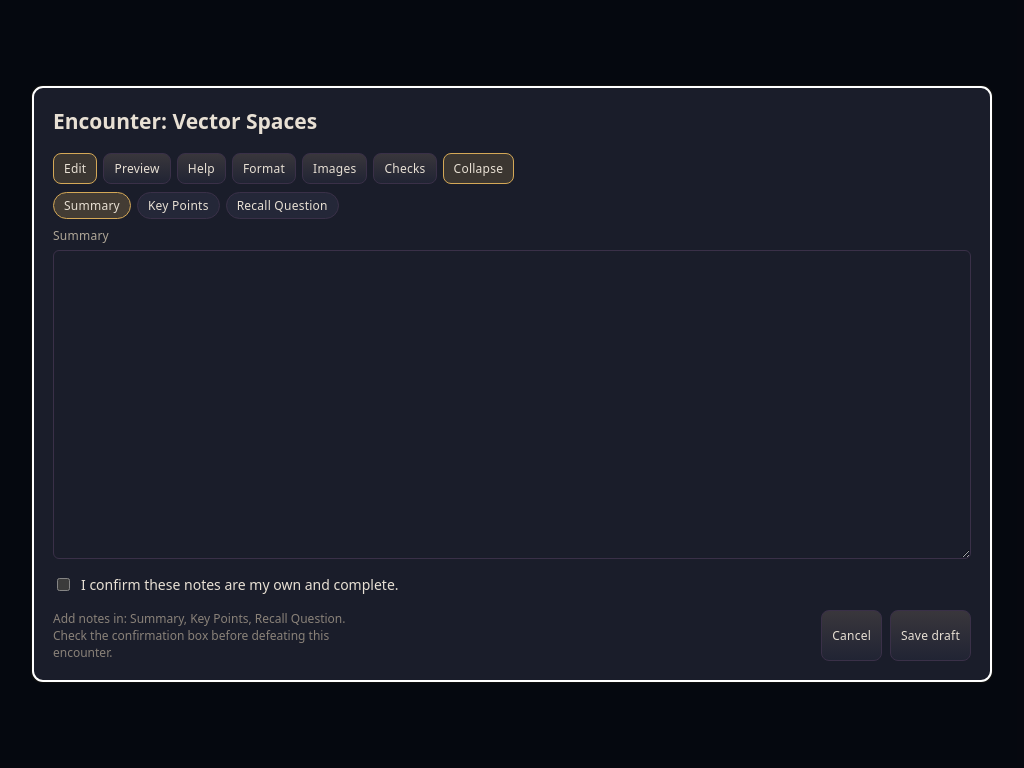
Test: NoteEditorModal › keeps help and image tools tucked away until requested
Expected: the text "Write as much or as little as needed" is not shown
Expected: the text "No room images yet" is not shown
Click the button "Help" at [201, 168], box [177,152,226,184]
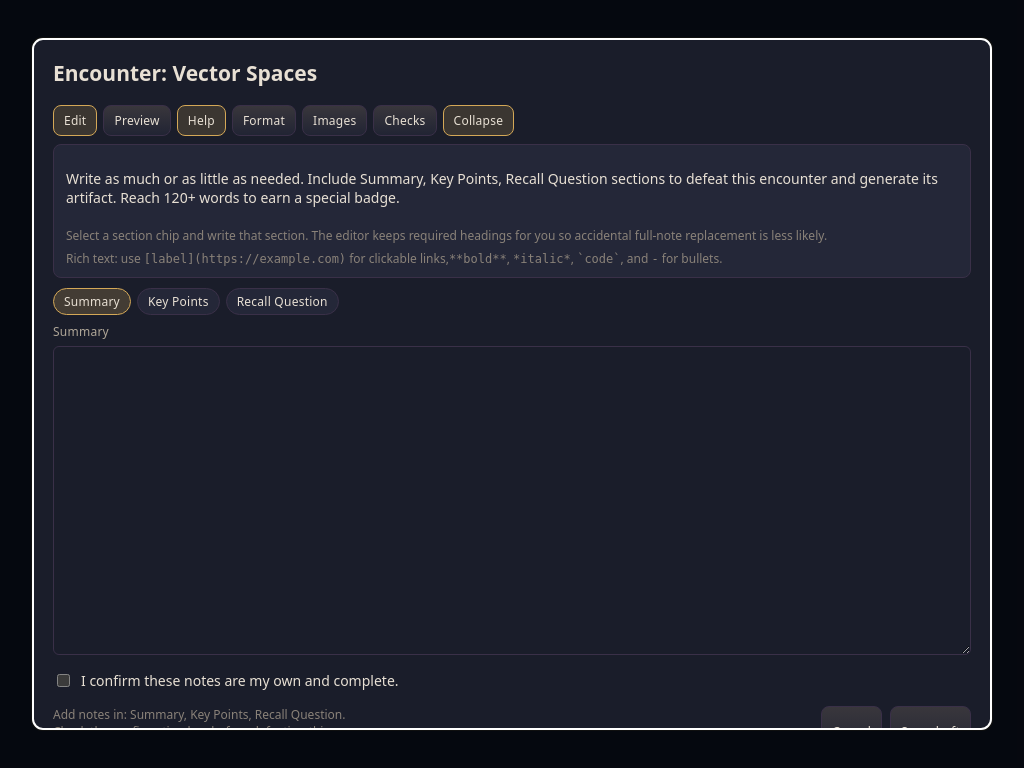
Click the button "Images" at [335, 120], box [302,105,368,136]
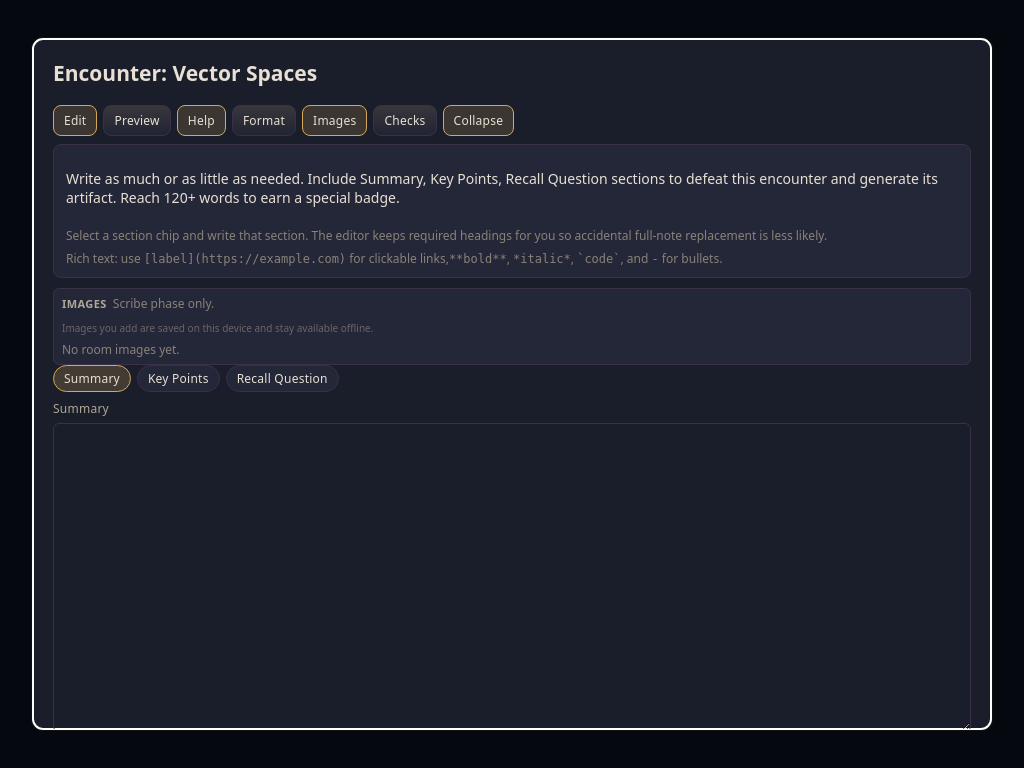
Expected: the text "Write as much or as little as needed" is shown, [66,169,360,188]
Expected: the text "No room images yet." is shown, [62,341,180,358]
